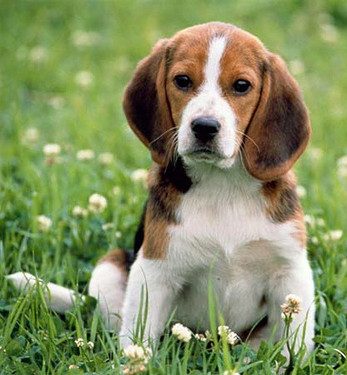dog: (0, 0, 347, 375)
